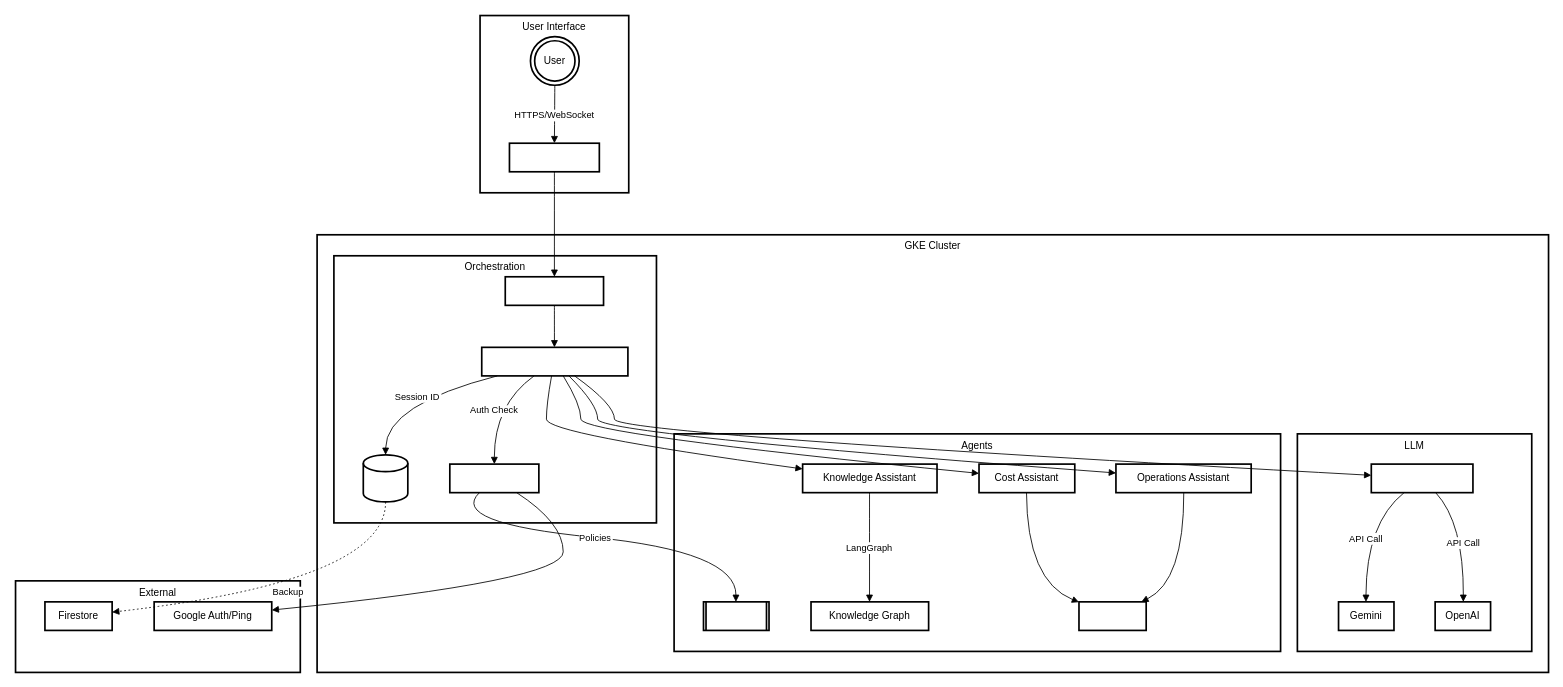
The diagram is 1563 pixels wide and 687 high, and some of its shapes have lost their labels. Here are the shapes that lost their labels. From the top down, the centre of each, then its label:
At (554,157): "API Gateway".
At (554,291): "Load Balancer".
At (554,361): "Platform Orchestrator".
At (385,478): "Redis".
At (494,478): "Auth Service".
At (1421,478): "LLM Generator".
At (735,616): "Casbin".
At (1112,616): "BigQuery".
